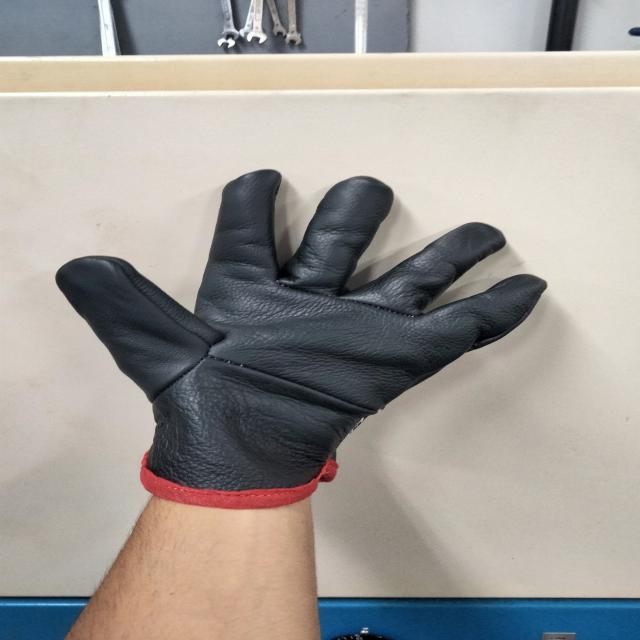Gloves: (63, 163, 534, 503)
